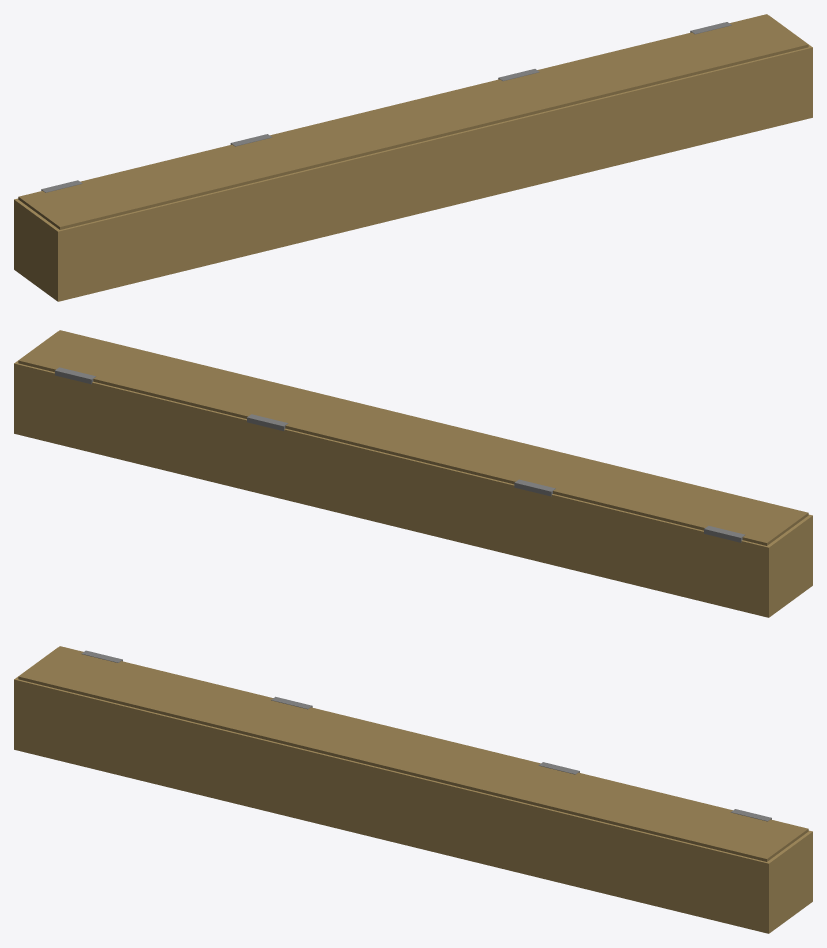
File: cartridges11.fbx
The picture shows the model from 3 angles, top to bottom: view 1: azimuth 30°, elevation 25°; view 2: azimuth 150°, elevation 25°; view 3: azimuth 330°, elevation 25°; orthographic projection.
Visible parts, largest first — view 1: Boole_3, Cube_6; view 2: Boole_3, Cube_6; view 3: Boole_3, Cube_6.
Boxes of the visible parts, box(x1,y1,x2,y2) form: Boole_3: box(14, 15, 812, 301); Cube_6: box(18, 14, 808, 229); Boole_3: box(14, 331, 812, 617); Cube_6: box(18, 330, 808, 545); Boole_3: box(14, 647, 812, 933); Cube_6: box(18, 646, 808, 861).
Size of the model in its own units: 432 by 41.35 by 44.05.
